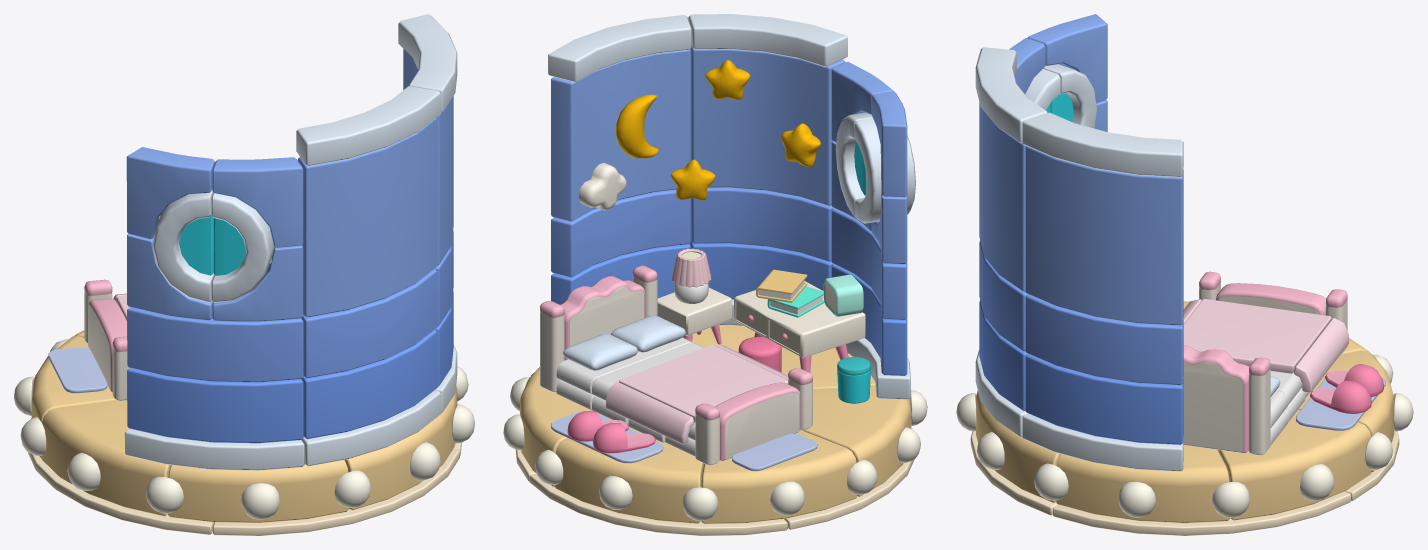
The model's file is level_156.fbx.
3 renders of one model, left to right at view 1: azimuth 30°, elevation 25°; view 2: azimuth 150°, elevation 25°; view 3: azimuth 270°, elevation 25°, orthographic. The views are drawn at different scales.
Parts seen in each view (by area): view 1: Cube_L1_7, Cube_L1_16, Cube_L1_13, Cube_L1_10, Cube_L1_14, Cube_L3_23, Cube_L3_24, Cube_L1_2, Cube_L1_6, Cube_L1, Cube_L1_12, Cube_L1_4 (+23 smaller); view 2: Cube_L1_7, Cube_L1_8, Cube_L1_10, Cube_L3_18, Cube_L1_11, Cube_L3_15, Cube_L4_27, Cube_L4_26, Cube_L4_8, Cube_L3_24, Cube_L1_2, Cube_L1_3 (+47 smaller); view 3: Cube_L1_8, Cube_L1_11, Cube_L1_15, Cube_L4_26, Cube_L3_16, Cube_L3_17, Cube_L4_8, Cube_L1_7, Cube_L1_3, Cube_L1_18, Cube_L3_3, Cube_L1_2 (+25 smaller).
Boxes of the visible parts, bbox=[...] form: Cube_L1_7: bbox=[298, 117, 437, 317]; Cube_L1_16: bbox=[127, 368, 303, 443]; Cube_L1_13: bbox=[127, 307, 303, 382]; Cube_L1_10: bbox=[301, 269, 437, 378]; Cube_L1_14: bbox=[301, 329, 437, 439]; Cube_L3_23: bbox=[167, 460, 349, 522]; Cube_L3_24: bbox=[41, 400, 170, 516]; Cube_L1_2: bbox=[296, 86, 441, 166]; Cube_L1_6: bbox=[212, 157, 303, 247]; Cube_L1: bbox=[152, 189, 214, 302]; Cube_L1_12: bbox=[211, 192, 274, 302]; Cube_L1_4: bbox=[126, 147, 215, 239]; Cube_L1_7: bbox=[690, 45, 845, 205]; Cube_L1_8: bbox=[551, 49, 690, 221]; Cube_L1_10: bbox=[691, 187, 833, 261]; Cube_L3_18: bbox=[701, 430, 856, 523]; Cube_L1_11: bbox=[551, 189, 690, 277]; Cube_L3_15: bbox=[555, 427, 703, 523]; Cube_L4_27: bbox=[695, 368, 812, 465]; Cube_L4_26: bbox=[540, 265, 657, 392]; Cube_L4_8: bbox=[619, 344, 787, 422]; Cube_L3_24: bbox=[802, 386, 911, 496]; Cube_L1_2: bbox=[688, 14, 847, 66]; Cube_L1_3: bbox=[548, 15, 691, 82]; Cube_L1_8: bbox=[1025, 146, 1183, 325]; Cube_L1_11: bbox=[1025, 294, 1183, 385]; Cube_L1_15: bbox=[1025, 354, 1183, 444]; Cube_L4_26: bbox=[1183, 345, 1270, 455]; Cube_L3_16: bbox=[1218, 410, 1371, 520]; Cube_L3_17: bbox=[1056, 445, 1229, 523]; Cube_L4_8: bbox=[1183, 299, 1331, 373]; Cube_L1_7: bbox=[979, 102, 1026, 291]; Cube_L1_3: bbox=[1022, 112, 1183, 177]; Cube_L1_18: bbox=[1022, 413, 1183, 471]; Cube_L3_3: bbox=[1053, 491, 1350, 535]; Cube_L1_2: bbox=[975, 47, 1047, 142].
Size of the model in its own units: 10.38 by 9.74 by 10.62.
